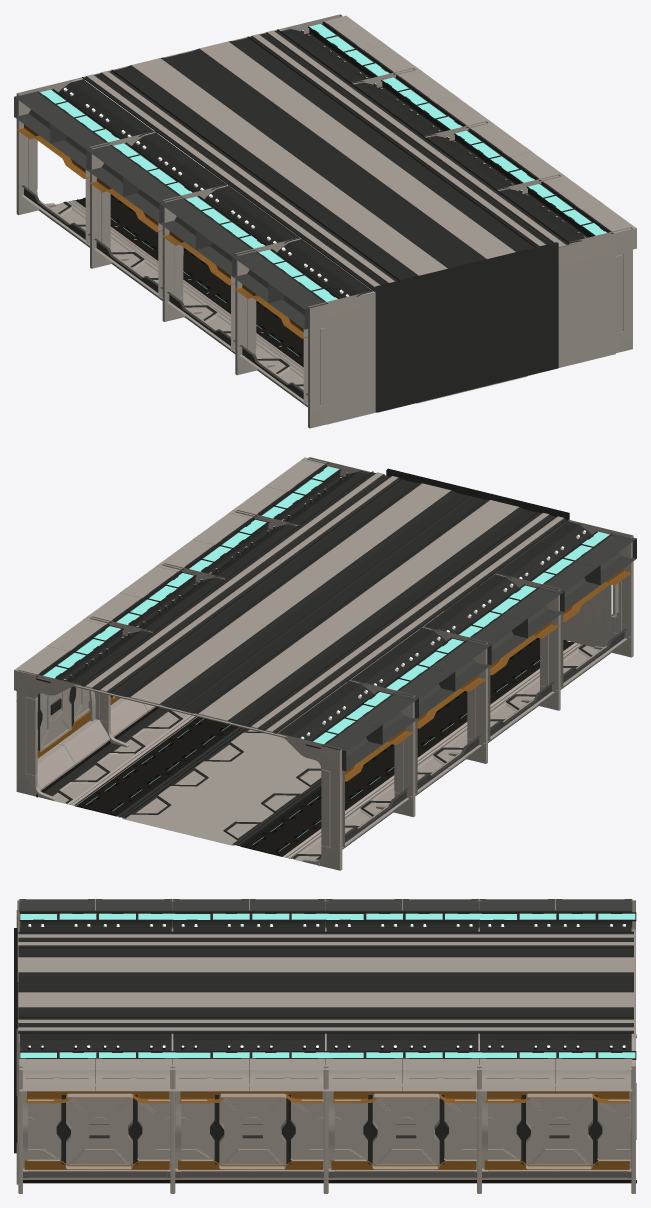
Rendered from corridor.gltf.
The picture shows the model from 3 angles, top to bottom: view 1: azimuth 30°, elevation 25°; view 2: azimuth 150°, elevation 25°; view 3: azimuth 270°, elevation 25°; orthographic projection. The views are drawn at different scales.
Visible parts, largest first — view 1: pCube74.001, pCube74, polySurface143.004, polySurface143.006, polySurface143.005, polySurface143.007, polySurface175.003, polySurface188.003, polySurface143, polySurface143.001, polySurface143.002, polySurface143.003 (+47 smaller); view 2: polySurface143.007, Plane, polySurface143.005, polySurface143.004, polySurface143.006, polySurface146, polySurface191, pCube74, polySurface203, polySurface143.003, polySurface143.023, polySurface143 (+69 smaller); view 3: polySurface143.007, polySurface143.004, polySurface143.005, polySurface143.006, polySurface195.001, polySurface195.002, polySurface195, polySurface195.003, polySurface143.023, polySurface143.020, polySurface143.022, polySurface143.021 (+74 smaller).
Boxes of the visible parts, x1,y1,x2,y2 form: pCube74.001: [375, 242, 558, 412]; pCube74: [325, 234, 615, 424]; polySurface143.004: [111, 37, 319, 124]; polySurface143.006: [256, 143, 465, 229]; polySurface143.005: [184, 90, 391, 176]; polySurface143.007: [328, 196, 535, 280]; polySurface175.003: [308, 290, 375, 428]; polySurface188.003: [558, 227, 632, 352]; polySurface143: [247, 29, 352, 91]; polySurface143.001: [321, 83, 422, 144]; polySurface143.002: [395, 135, 494, 197]; polySurface143.003: [464, 188, 569, 247]; polySurface143.007: [328, 478, 538, 567]; Plane: [122, 611, 444, 845]; polySurface143.005: [183, 584, 394, 673]; polySurface143.004: [110, 639, 319, 726]; polySurface143.006: [256, 534, 466, 620]; polySurface146: [178, 710, 342, 870]; polySurface191: [16, 670, 180, 800]; pCube74: [327, 462, 618, 647]; polySurface203: [37, 719, 109, 790]; polySurface143.003: [298, 471, 402, 533]; polySurface143.023: [464, 512, 568, 574]; polySurface143: [81, 630, 185, 693]; polySurface143.007: [18, 948, 176, 1018]; polySurface143.004: [476, 948, 633, 1018]; polySurface143.005: [323, 948, 481, 1018]; polySurface143.006: [170, 948, 328, 1018]; polySurface195.001: [372, 1093, 439, 1169]; polySurface195.002: [219, 1093, 286, 1169]; polySurface195: [526, 1093, 592, 1169]; polySurface195.003: [66, 1093, 132, 1169]; polySurface143.023: [18, 931, 176, 948]; polySurface143.020: [476, 931, 633, 948]; polySurface143.022: [170, 931, 328, 948]; polySurface143.021: [323, 931, 481, 948].
Bounding box in the file's own units: 18.93 × 6.9 × 29.15.
Materials: 9 (1 with a texture image).
